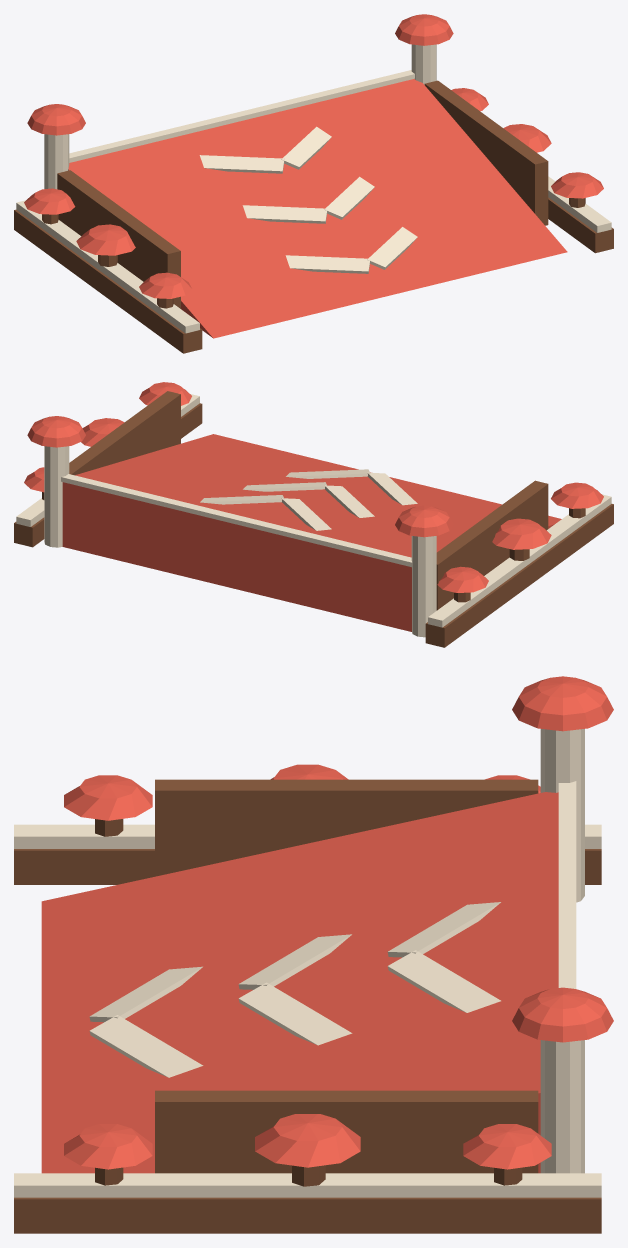
Rendered from ramp.glb.
3 renders of one model, top to bottom at view 1: azimuth 30°, elevation 25°; view 2: azimuth 150°, elevation 25°; view 3: azimuth 270°, elevation 25°, orthographic. The views are drawn at different scales.
Parts seen in each view (by area): view 1: Ramp, RampRail_L, RampRailTop_L, RampRail_R, RampShroomC11, RampShroomC00, RampShroomC10, RampShroomC12, RampRailTop_R, RampShroomC01; view 2: Ramp, RampRail_L, RampRailTop_L, RampShroomC11, RampRail_R, RampShroomC10, RampShroomC12, RampRailTop_R, RampShroomC01, RampShroomC00, RampShroomC02; view 3: Ramp, RampRail_R, RampRailTop_R, RampRail_L, RampShroomC01, RampRailTop_L, RampShroomC10, RampShroomC00, RampShroomC02, RampShroomC11.
Boxes of the visible parts, x1,y1,x2,y2 form: Ramp: (27,14,567,338); RampRail_L: (14,209,202,353); RampRailTop_L: (16,200,199,333); RampRail_R: (548,197,613,253); RampShroomC11: (76,224,135,255); RampShroomC00: (551,172,603,198); RampShroomC10: (139,272,191,298); RampShroomC12: (24,188,75,214); RampRailTop_R: (548,176,611,232); RampShroomC01: (503,124,551,152); Ramp: (27,391,561,637); RampRail_L: (425,504,613,647); RampRailTop_L: (428,494,611,627); RampShroomC11: (492,518,551,549); RampRail_R: (14,403,202,547); RampShroomC10: (551,482,603,508); RampShroomC12: (437,566,488,592); RampRailTop_R: (16,394,199,526); RampShroomC01: (81,418,124,446); RampShroomC00: (139,382,191,405); RampShroomC02: (24,467,44,492); Ramp: (41,676,613,1173); RampRail_R: (14,1197,601,1233); RampRailTop_R: (14,1173,601,1197); RampRail_L: (14,849,601,884); RampShroomC01: (255,1114,360,1167); RampRailTop_L: (14,824,601,848); RampShroomC10: (64,775,152,820); RampShroomC00: (64,1124,152,1169); RampShroomC02: (463,1124,551,1169); RampShroomC11: (270,764,348,779).
Size of the model in its own units: 8.44 by 2.11 by 5.41.
